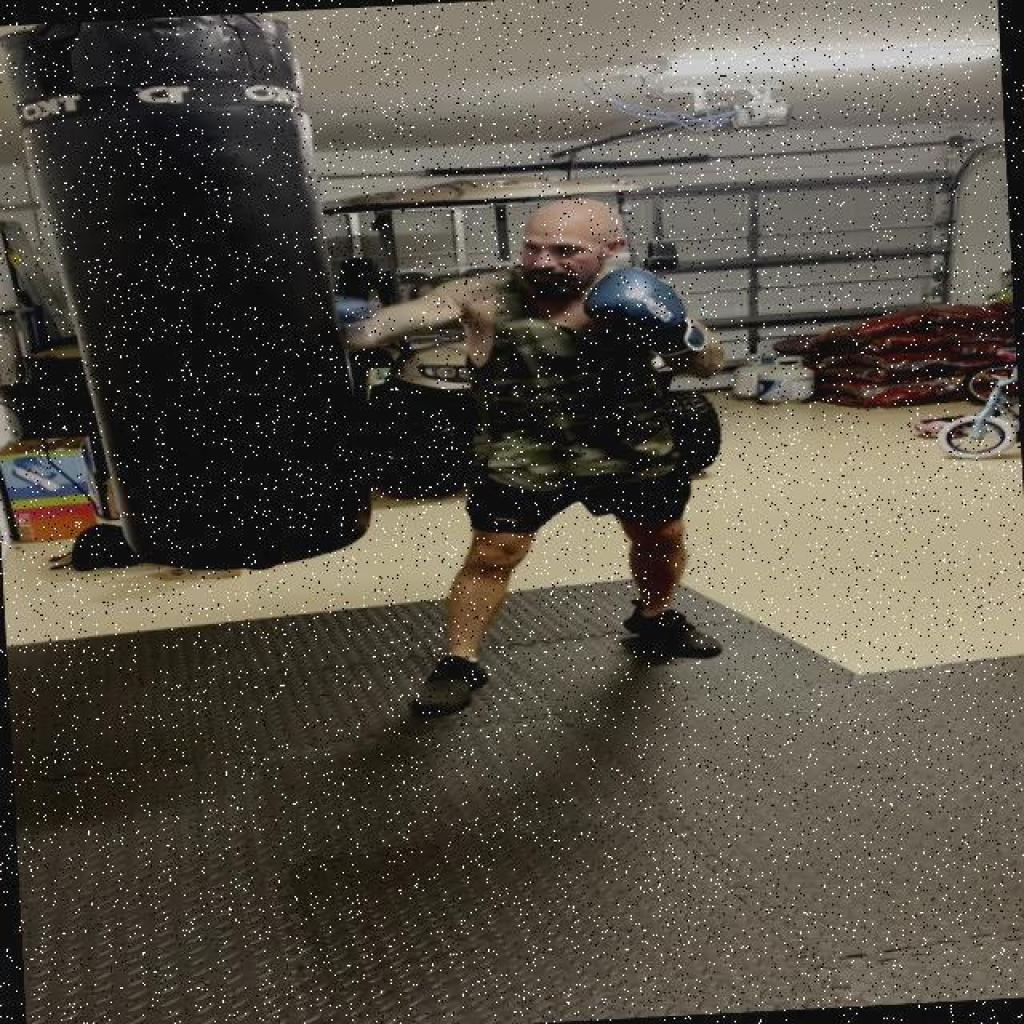cross: (299, 174, 746, 437)
